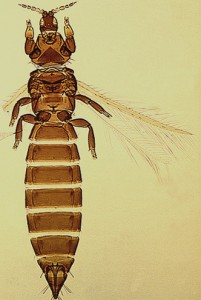Thripidae: (3, 1, 199, 298)
